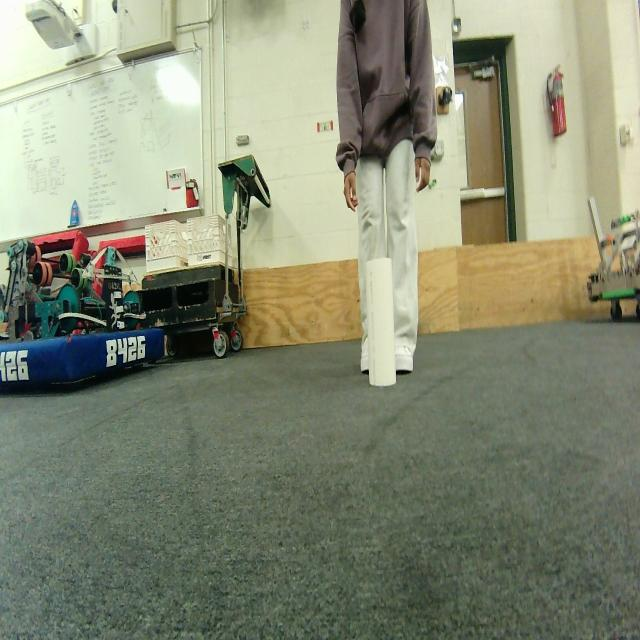coral: (354, 248, 410, 396)
